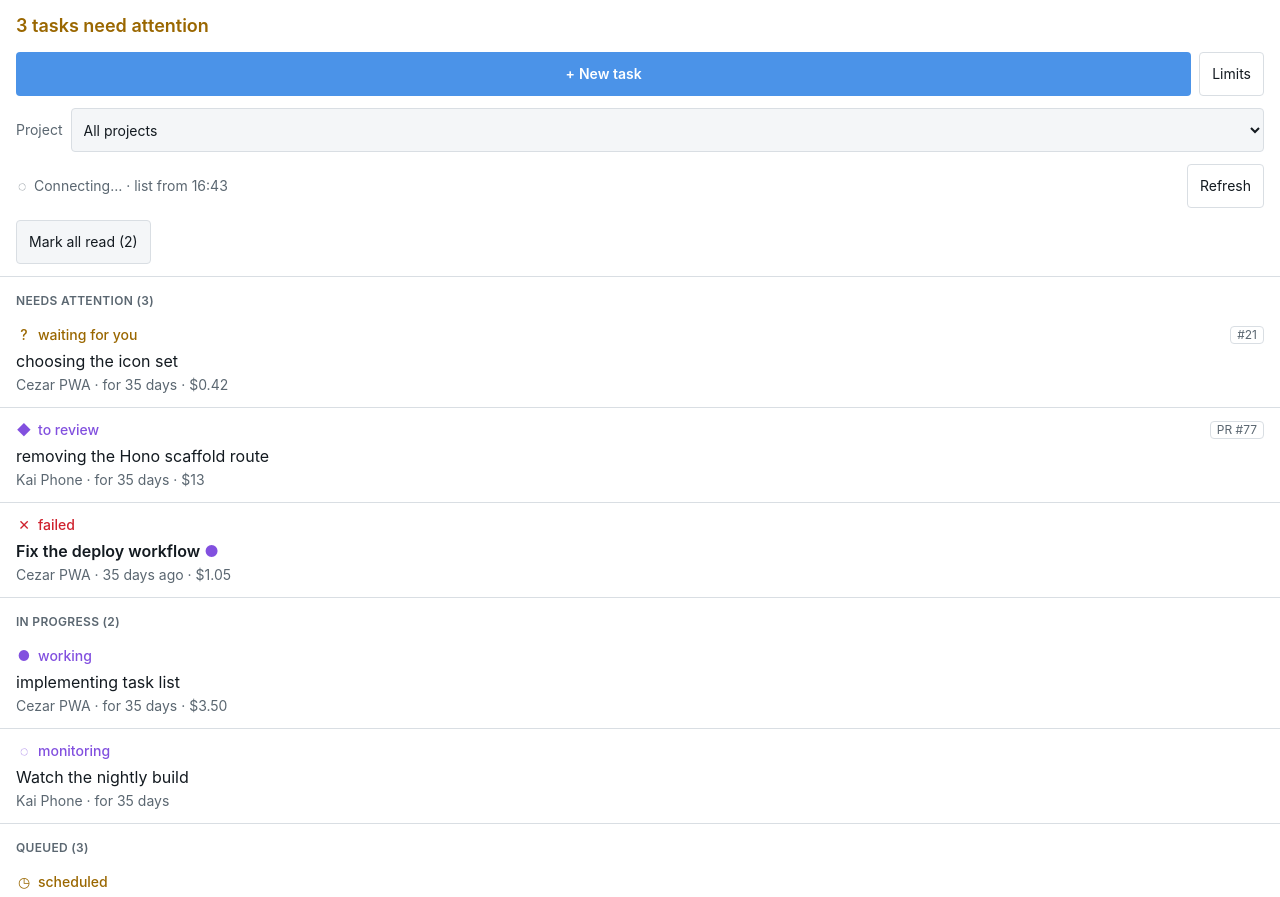
Test: mark all read (#67) › names the project that failed, with its reason, and keeps its markers
Click the button "Mark all read (2)" at (83, 242), box [16,220,151,264]
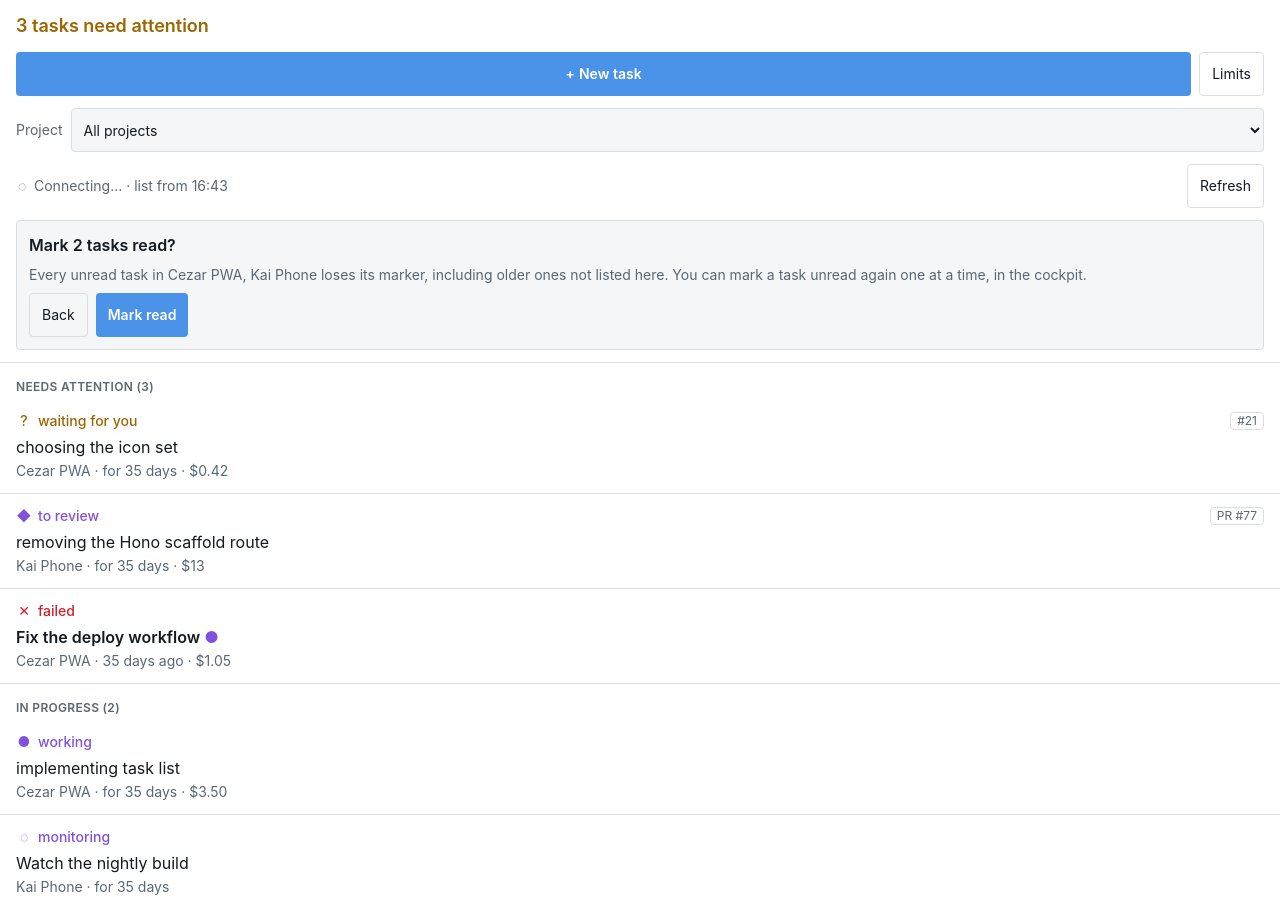
Click the button "Mark read" at (142, 315), box [96,293,188,337]
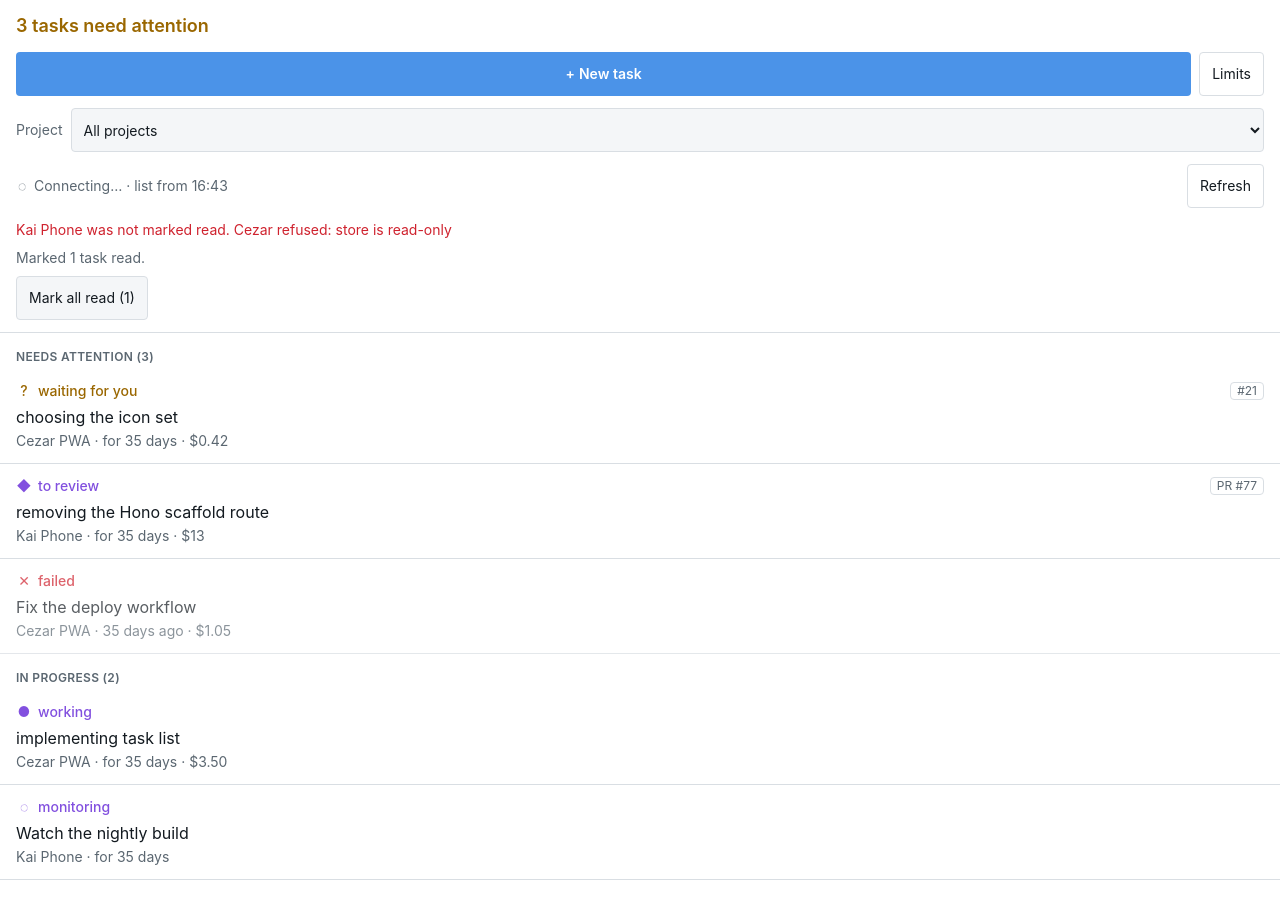
Expected: the message "Kai Phone was not marked read. Cezar refused: store is read-only" does not show "Cezar PWA", [16,221,452,238]
Now the text "Marked 1 task read." is shown, box [16,249,145,266]
